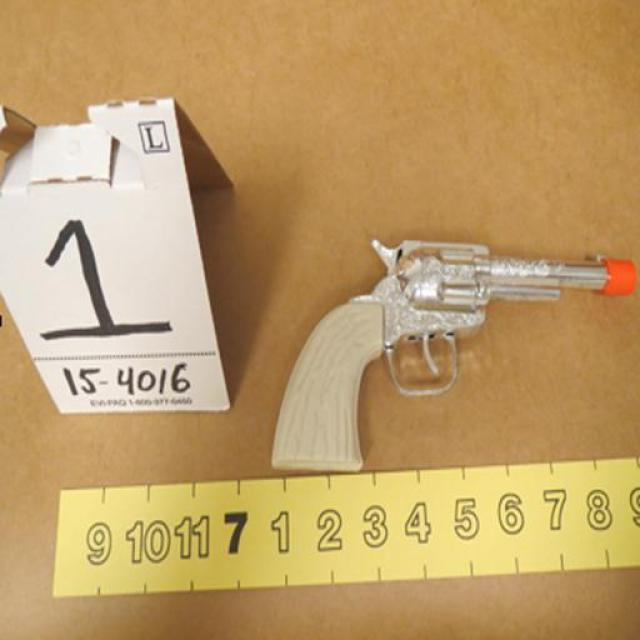pistol: (264, 235, 638, 470)
